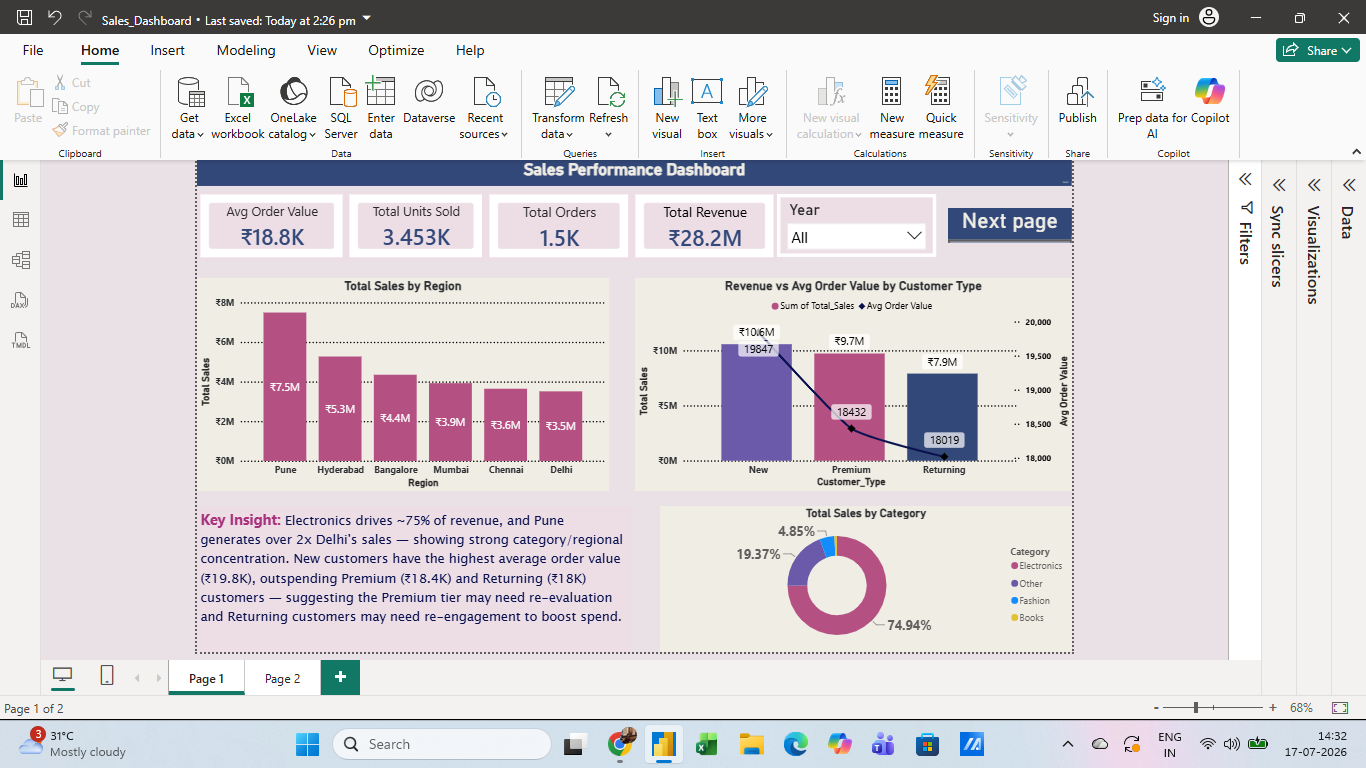

The page's visual inventory and layout, read from the dashboard file:
{"tool":"powerbi","page":{"name":"Page 1","canvas":[1280,720],"ordinal":0},"visuals":[{"type":"cardVisual","fields":{"Data":["sales_dataset_dashboard.Avg Order Value"]},"box":[0,45.4,218,102.4],"z":1000},{"type":"cardVisual","fields":{"Data":["Sum(sales_dataset_dashboard.Quantity)"]},"box":[218,45.4,204.9,102.4],"z":2000},{"type":"cardVisual","fields":{"Data":["CountNonNull(sales_dataset_dashboard.Order_ID)"]},"box":[422.9,45.4,213.7,102.4],"z":3000},{"type":"cardVisual","fields":{"Data":["Sum(sales_dataset_dashboard.Total_Sales)"]},"box":[636.6,45.4,212.2,102.4],"z":4000},{"type":"textbox","title":"Sales Performance Dashboard","box":[0,0,1280.5,38],"z":5000},{"type":"slicer","fields":{"Values":["sales_dataset_dashboard.Year"]},"box":[848.8,49.8,232.7,92.2],"z":9000},{"type":"clusteredColumnChart","title":" Total Sales by Region","fields":{"Y":["Sum(sales_dataset_dashboard.Total_Sales)"],"Category":["sales_dataset_dashboard.Region"]},"box":[0,172.7,602.9,311.7],"z":9002},{"type":"textbox","box":[0,506.3,636.6,213.7],"z":9003},{"type":"lineClusteredColumnComboChart","title":"Revenue vs Avg Order Value by Customer Type","fields":{"Category":["sales_dataset_dashboard.Customer_Type"],"Y":["Sum(sales_dataset_dashboard.Total_Sales)"],"Y2":["sales_dataset_dashboard.Avg Order Value"]},"box":[641,172.7,639.5,311.7],"z":9005},{"type":"donutChart","title":"Total Sales by Category","fields":{"Y":["Sum(sales_dataset_dashboard.Total_Sales)"],"Category":["sales_dataset_dashboard.Category"]},"box":[677.6,506.3,602.9,213.7],"z":9006},{"type":"actionButton","title":"Next  page","box":[1099,70.2,181.5,51.2],"z":9007}]}

Visuals, with their boxes on the page's 1280x720 design canvas (x1, y1, x2, y2). These are canvas units, not pixel positions in the 1366x768 screenshot, which may show the page scaled, cropped or inside an application window:
cardVisual - sales_dataset_dashboard.Avg Order Value: Rect(0, 45, 218, 148)
cardVisual - Sum(sales_dataset_dashboard.Quantity): Rect(218, 45, 423, 148)
cardVisual - CountNonNull(sales_dataset_dashboard.Order_ID): Rect(423, 45, 637, 148)
cardVisual - Sum(sales_dataset_dashboard.Total_Sales): Rect(637, 45, 849, 148)
"Sales Performance Dashboard" textbox: Rect(0, 0, 1280, 38)
slicer - sales_dataset_dashboard.Year: Rect(849, 50, 1082, 142)
" Total Sales by Region" clusteredColumnChart: Rect(0, 173, 603, 484)
textbox: Rect(0, 506, 637, 720)
"Revenue vs Avg Order Value by Customer Type" lineClusteredColumnComboChart: Rect(641, 173, 1280, 484)
"Total Sales by Category" donutChart: Rect(678, 506, 1280, 720)
"Next  page" actionButton: Rect(1099, 70, 1280, 121)
